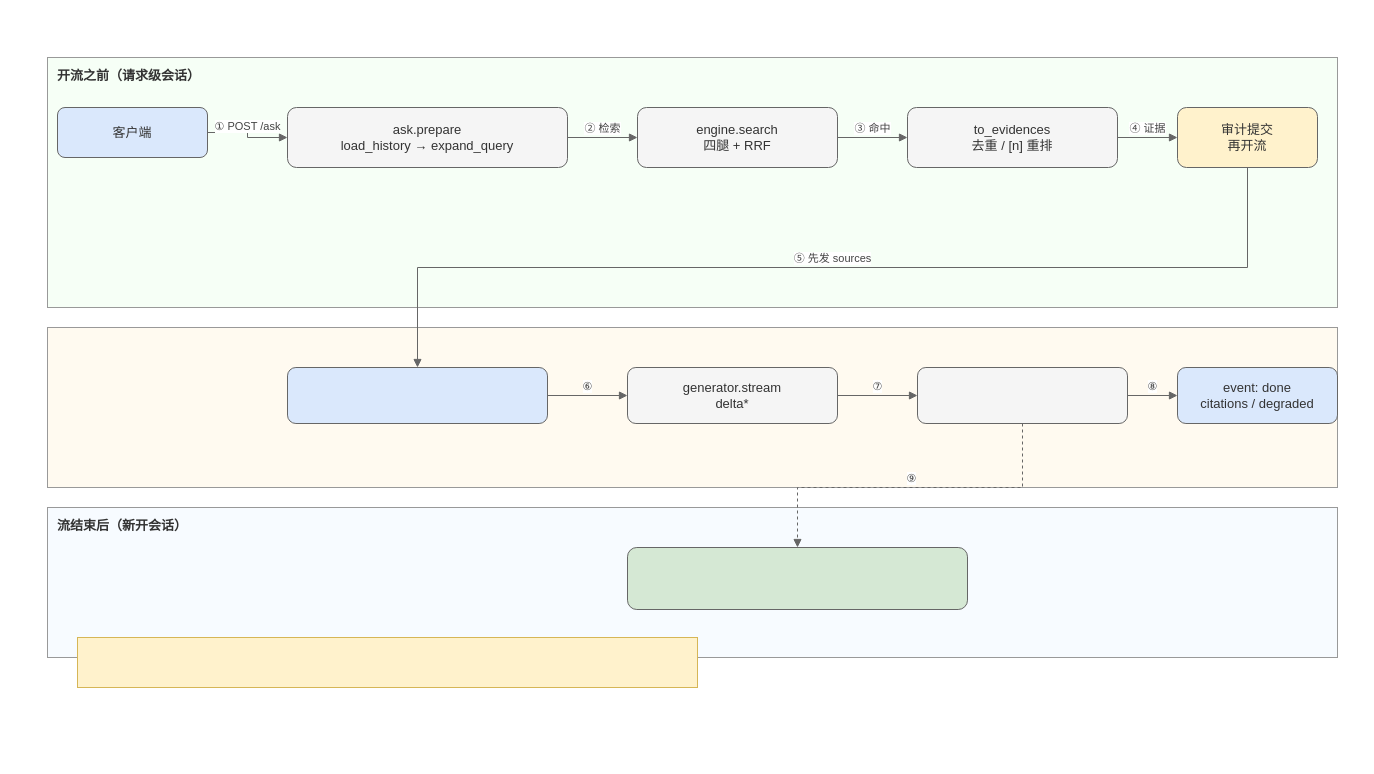
Image size: 1374x774. Some labels were removed from this diagram. The shapes that lost their labels are listed below. From the top down, each one's box as (x1, y1, x2, y2) in pixels, then its label:
(286, 366, 548, 424): event: sources retrieval_ms + 引用坐标
(46, 326, 1338, 488): 流式生成（只做 LLM HTTP 往返，不碰 DB）
(916, 366, 1128, 424): parse_citations 合法 / 悬空
(626, 546, 968, 610): session_scope() user + assistant 两条一起写
(76, 636, 698, 688): sources 先于任何 delta 是契约要求：前端据此区分「还在检索」与「在生成」。 stream=false 仍返回 SSE，只是一个 delta。
